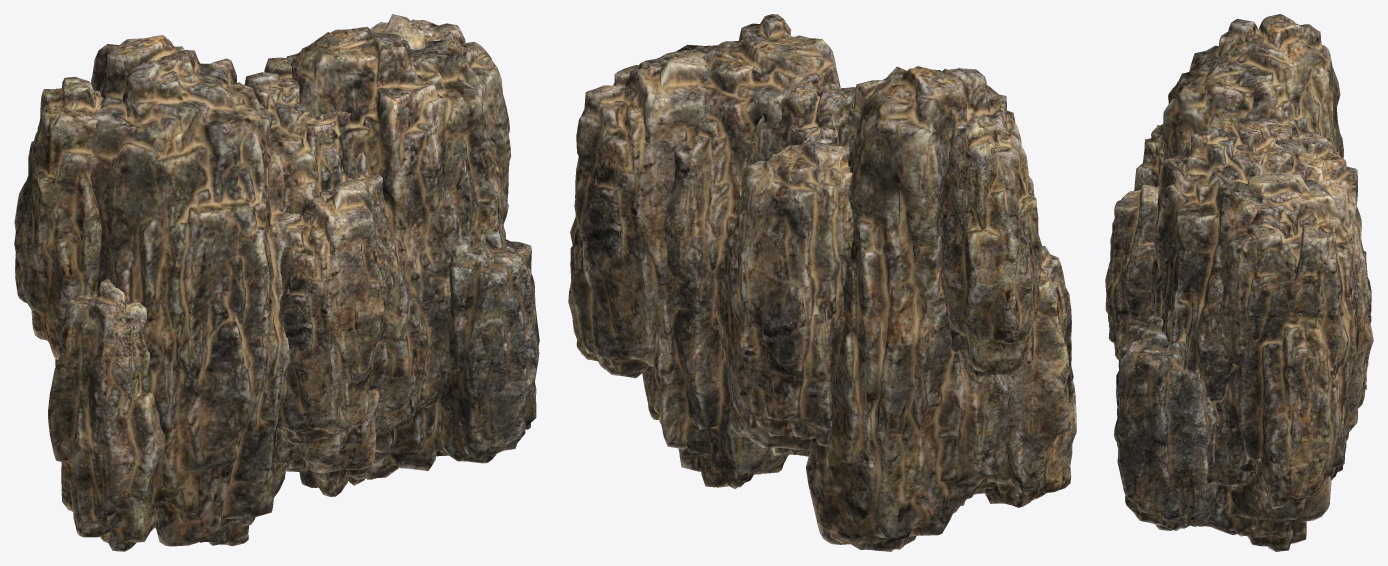
Rendered from Rock - Dark G1-BrYM9beF.glb.
The picture shows the model from 3 angles, left to right: view 1: azimuth 30°, elevation 25°; view 2: azimuth 150°, elevation 25°; view 3: azimuth 270°, elevation 25°; orthographic projection. The views are drawn at different scales.
Visible parts, largest first — view 1: DarkRock_G1; view 2: DarkRock_G1; view 3: DarkRock_G1.
Boxes of the visible parts, x1,y1,x2,y2 form: DarkRock_G1: (14,14,539,551); DarkRock_G1: (568,14,1076,551); DarkRock_G1: (1105,14,1373,551).
Size of the model in its own units: 16.16 by 16.16 by 8.78.
Materials: 1 (1 with a texture image).
